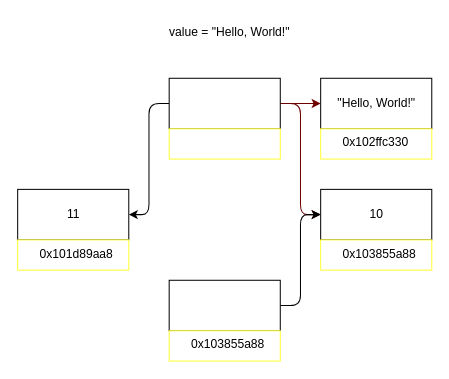
Image size: 449x379. Some labels were removed from this diagram. The shapes that lost their labels are listed below. From the top down, each one's centre as x and y in pixels, then its label:
the point at 224,103: value
the point at 224,305: other_value
